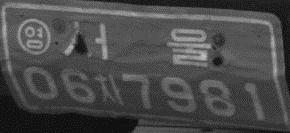0: (22, 65, 58, 103)
1: (238, 79, 269, 121)
6: (61, 70, 94, 107)
7: (124, 72, 154, 109)
8: (198, 77, 235, 117)
9: (160, 74, 196, 114)
서울_D: (62, 20, 211, 68)
영: (16, 18, 51, 55)
차: (96, 73, 123, 107)
